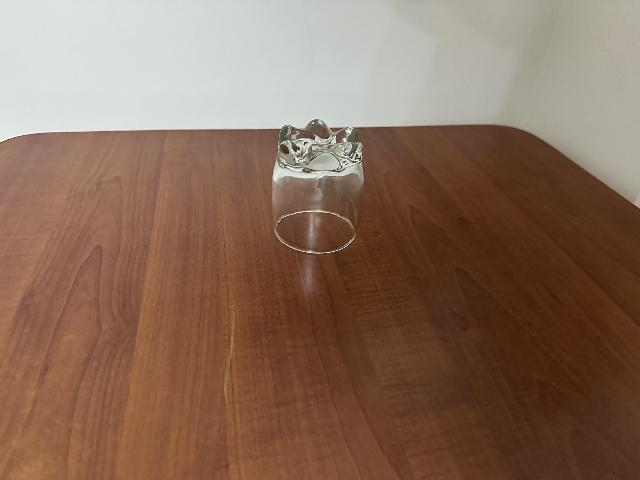Cam: (270, 119, 362, 256)
